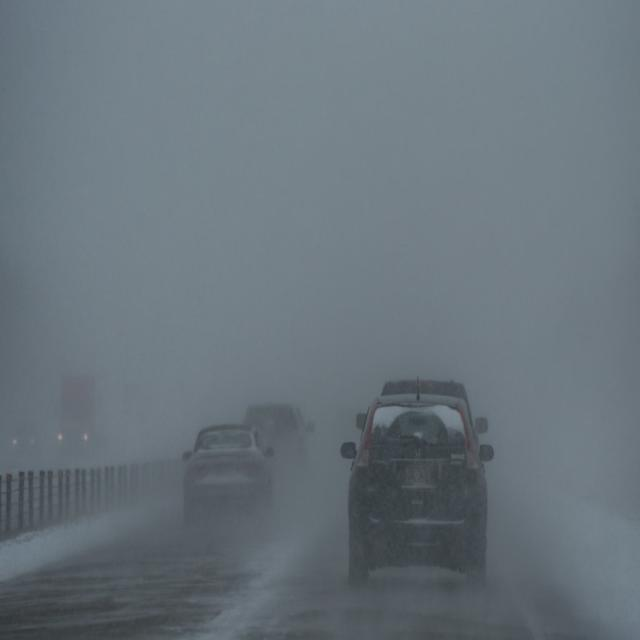car: (340, 398, 493, 584), (181, 422, 275, 527), (357, 371, 489, 443), (245, 403, 315, 482), (10, 416, 40, 455)
